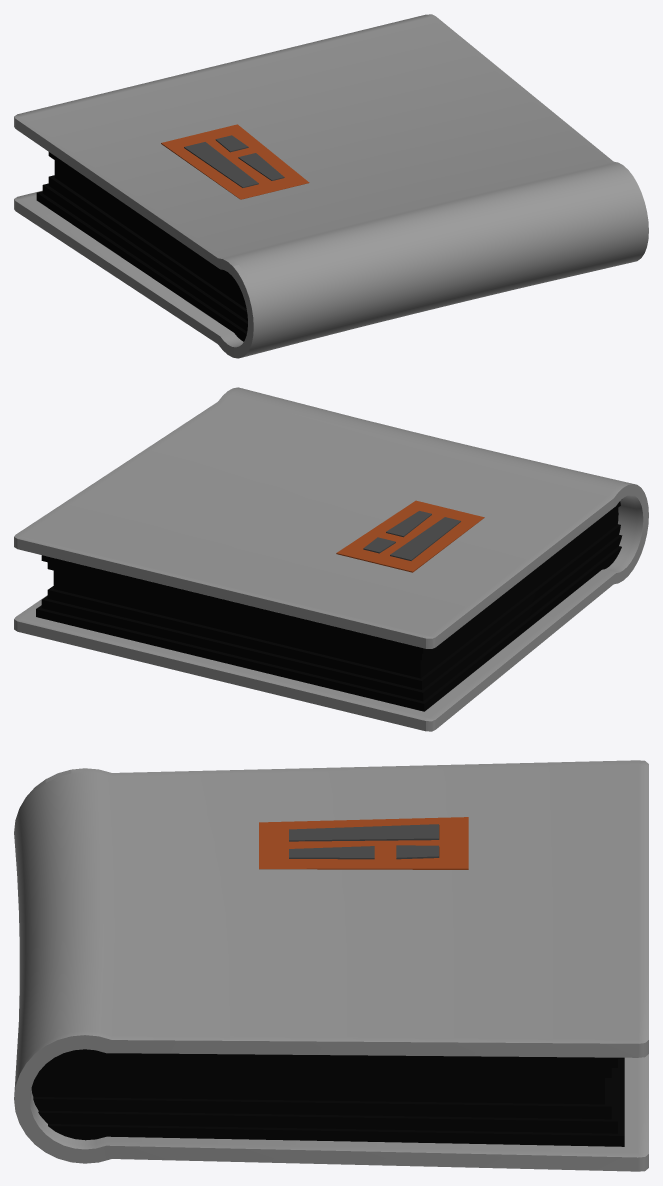
The model's file is Book_1_Blue.FBX.
The picture shows the model from 3 angles, top to bottom: view 1: azimuth 30°, elevation 25°; view 2: azimuth 150°, elevation 25°; view 3: azimuth 270°, elevation 25°; orthographic projection. The views are drawn at different scales.
Visible parts, largest first — view 1: Cylinder104; view 2: Cylinder104; view 3: Cylinder104.
Boxes of the visible parts, x1,y1,x2,y2 form: Cylinder104: (14,14,648,358); Cylinder104: (14,387,648,731); Cylinder104: (14,760,648,1171).
Size of the model in its own units: 1897 by 405 by 1796.
